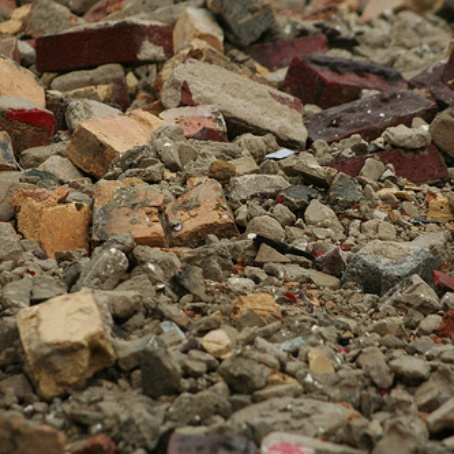rocks: (1, 1, 452, 442)
